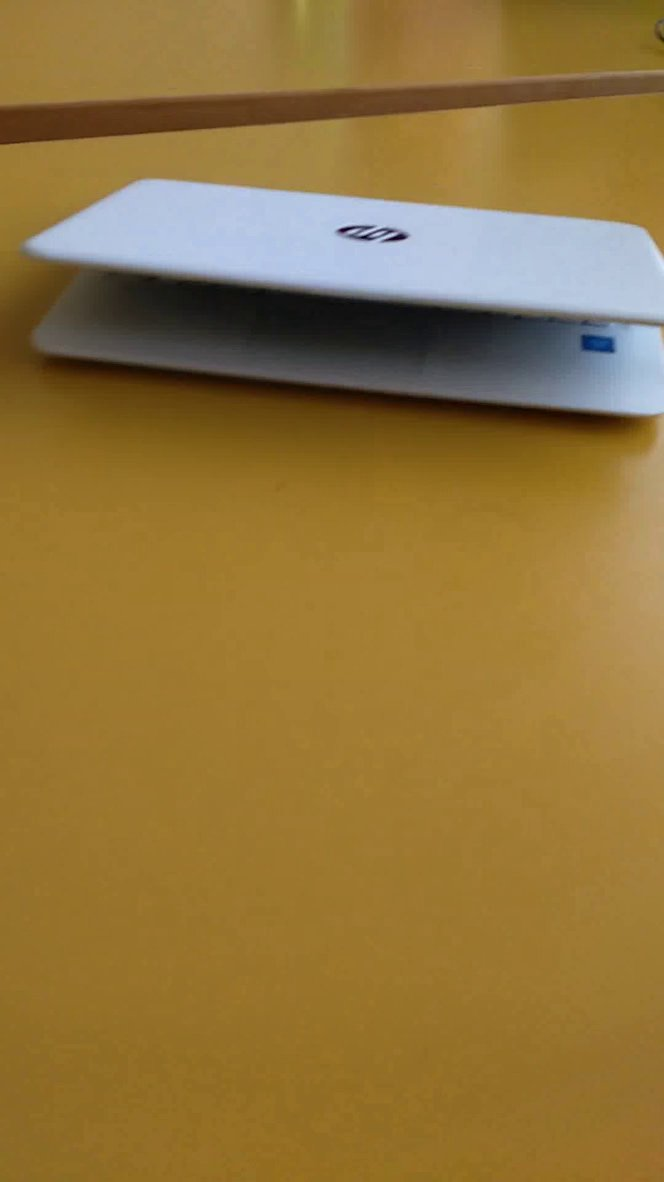laptop: (5, 163, 664, 463)
